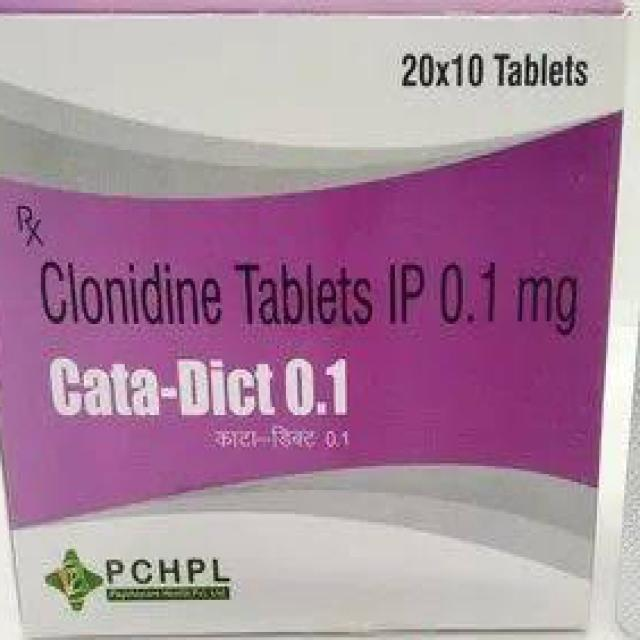drug-name: (46, 336, 357, 424)
